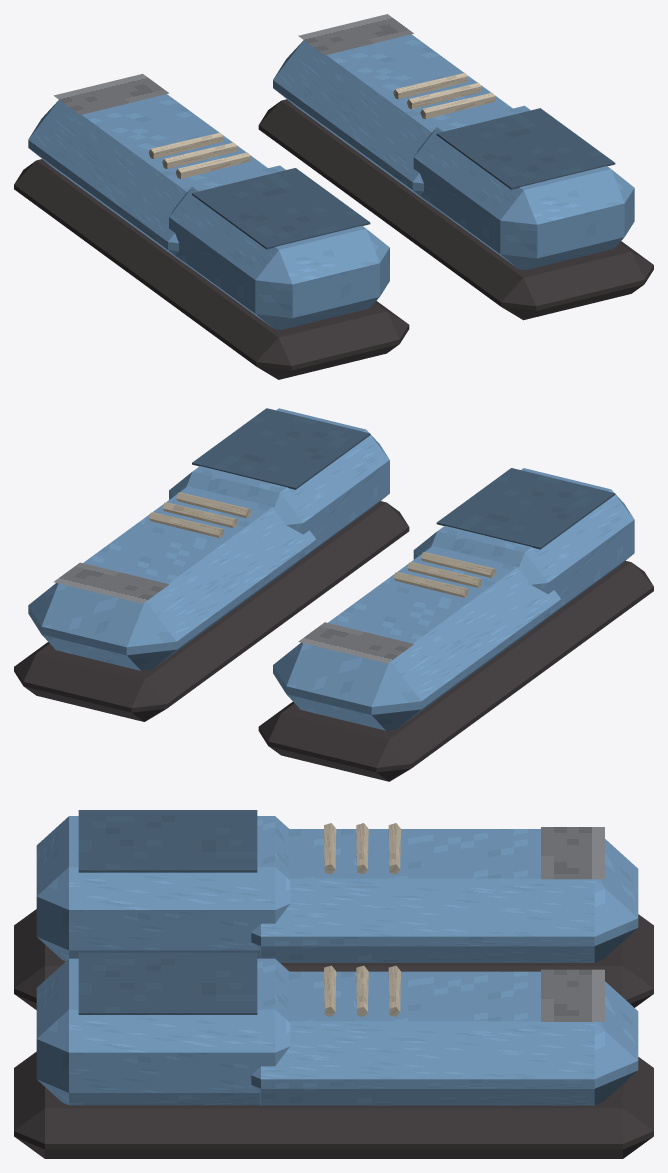
The model's file is sneakers_steel.glb.
3 renders of one model, top to bottom at view 1: azimuth 30°, elevation 25°; view 2: azimuth 150°, elevation 25°; view 3: azimuth 270°, elevation 25°, orthographic. The views are drawn at different scales.
Visible parts, largest first — view 1: block_shaped sole (×2), block_shaft (×2), block_vamp and toe (×2), block_opening (×2), block_lace (×6), block_reinforced toe panel (×2); view 2: block_vamp and toe (×2), block_shaped sole (×2), block_shaft (×2), block_opening (×2), block_reinforced toe panel (×2), block_lace (×6); view 3: block_vamp and toe (×2), block_shaft (×2), block_shaped sole (×2), block_opening (×2), block_reinforced toe panel (×2), block_lace (×6).
Part boxes in pixels (x1,y1,x2,y2): block_shaped sole (×2): (14,99,653,379); block_shaft (×2): (169,105,634,329); block_vamp and toe (×2): (28,34,512,270); block_opening (×2): (192,108,615,249); block_lace (×6): (148,73,495,178); block_reinforced toe panel (×2): (53,14,413,114); block_vamp and toe (×2): (28,486,561,730); block_shaped sole (×2): (14,501,653,781); block_shaft (×2): (169,408,634,618); block_opening (×2): (192,408,615,549); block_reinforced toe panel (×2): (53,562,413,663); block_lace (×6): (149,492,495,597); block_vamp and toe (×2): (251,829,638,1105); block_shaft (×2): (36,816,290,1105); block_shaped sole (×2): (14,909,653,1158); block_opening (×2): (78,810,257,1014); block_reinforced toe panel (×2): (541,827,604,1021); block_lace (×6): (324,823,400,1016).
Bounding box in the file's own units: 0.2175 × 0.0634 × 0.254.
1 material, 1 textured.
